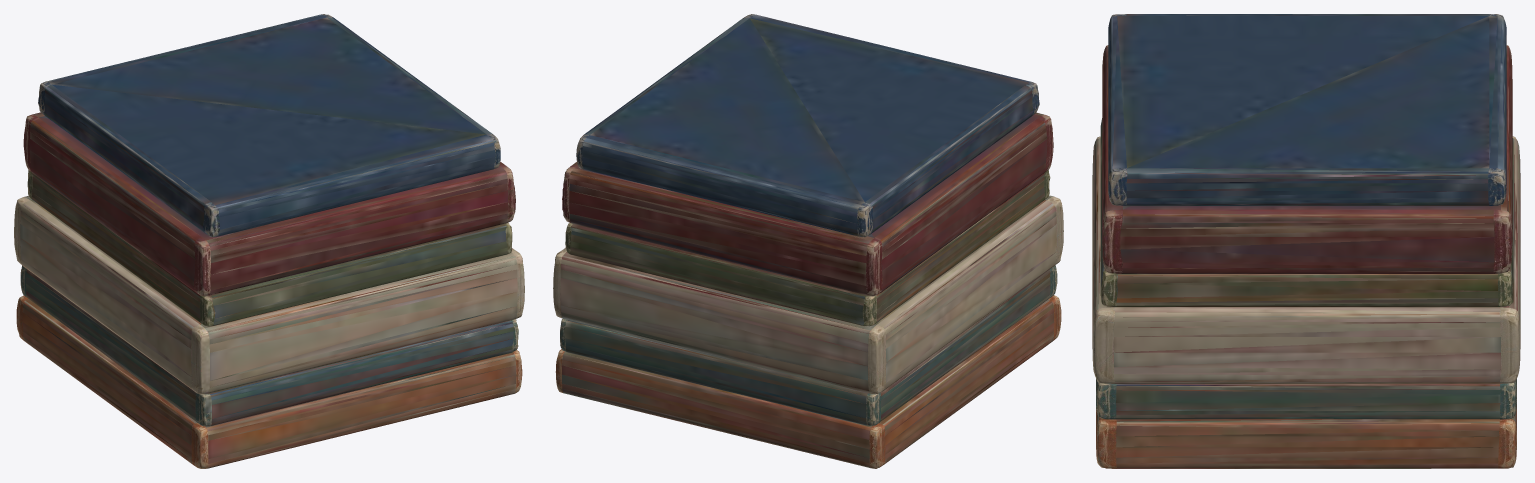
File: skyways-d-bk-stack.glb
The picture shows the model from 3 angles, left to right: view 1: azimuth 30°, elevation 25°; view 2: azimuth 150°, elevation 25°; view 3: azimuth 270°, elevation 25°; orthographic projection. The views are drawn at different scales.
Visible parts, largest first — view 1: skyways-d-bk-stack; view 2: skyways-d-bk-stack; view 3: skyways-d-bk-stack.
Part boxes in pixels (x1,y1,x2,y2): skyways-d-bk-stack: (14,14,524,468); skyways-d-bk-stack: (553,14,1063,468); skyways-d-bk-stack: (1092,14,1520,468).
Bounding box in the file's own units: 0.32 × 0.2391 × 0.32.
Materials: 1 (1 with a texture image).
